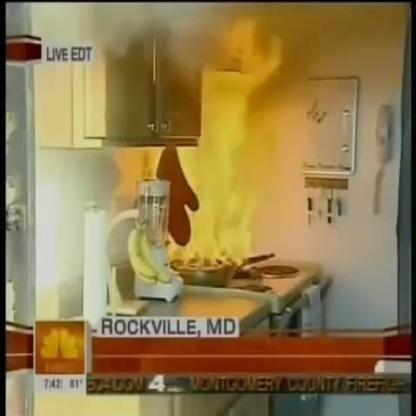fire: (163, 14, 281, 272)
